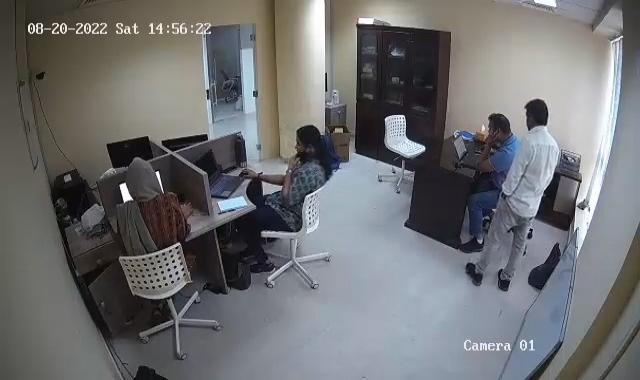no_hairnet: (123, 156, 159, 195), (291, 121, 326, 159), (522, 97, 554, 137), (486, 109, 513, 142)
